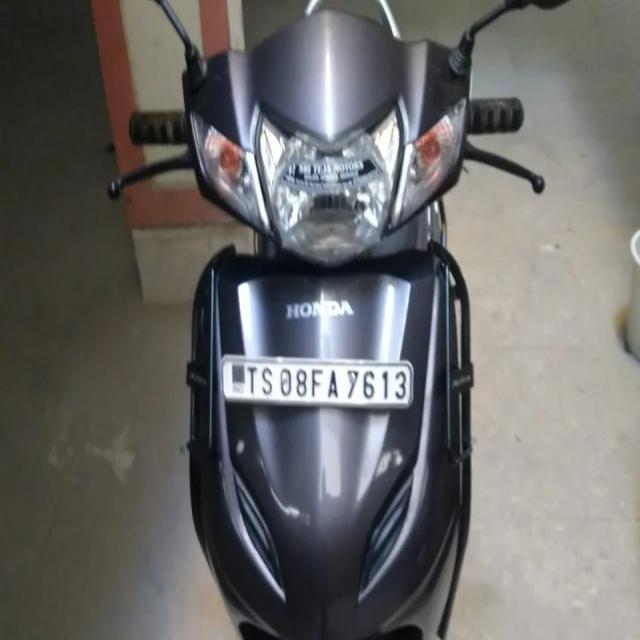Motor-Cycle: (176, 16, 485, 640)
Plate: (224, 359, 411, 406)
